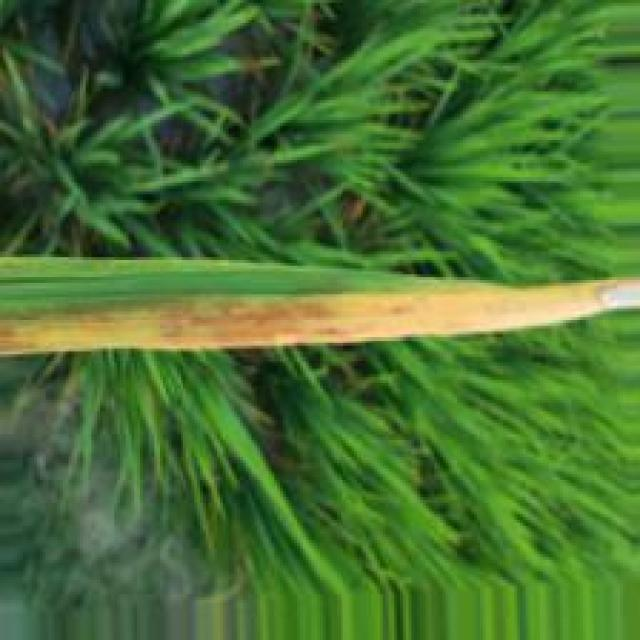Bacterial_Leaf_Blight: (0, 279, 640, 357)
